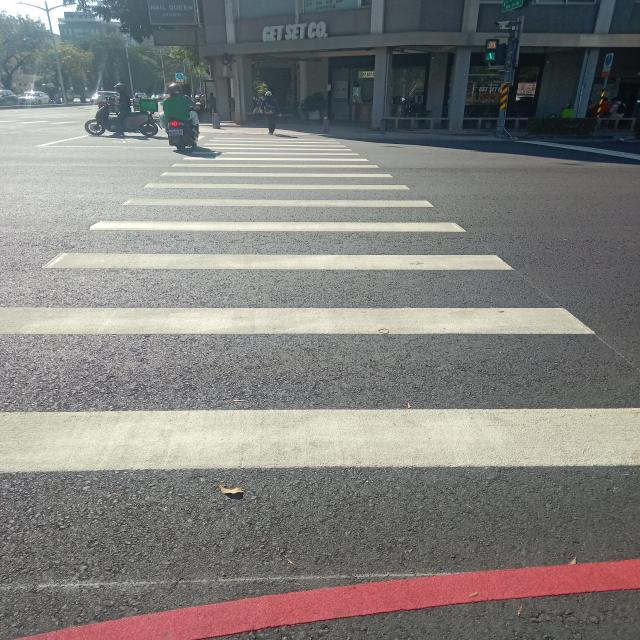zebra_crossing: (138, 68, 415, 186), (84, 59, 255, 178), (107, 46, 318, 139), (62, 65, 184, 193), (12, 72, 20, 542)
